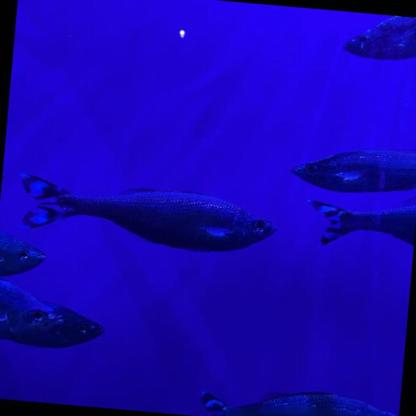fish: (13, 169, 282, 259), (0, 276, 111, 354), (288, 134, 416, 201), (196, 380, 400, 416), (301, 192, 415, 256), (339, 11, 415, 66), (0, 228, 53, 284), (16, 0, 35, 12)
